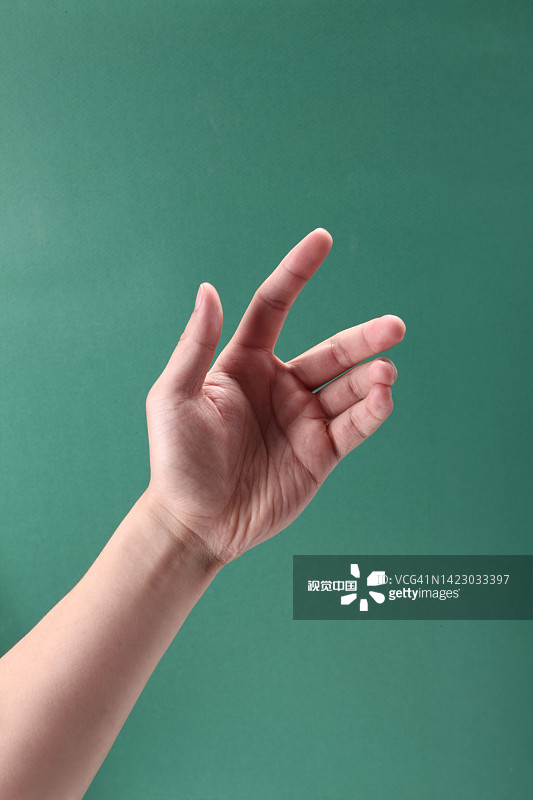no-phone: (128, 199, 412, 561)
